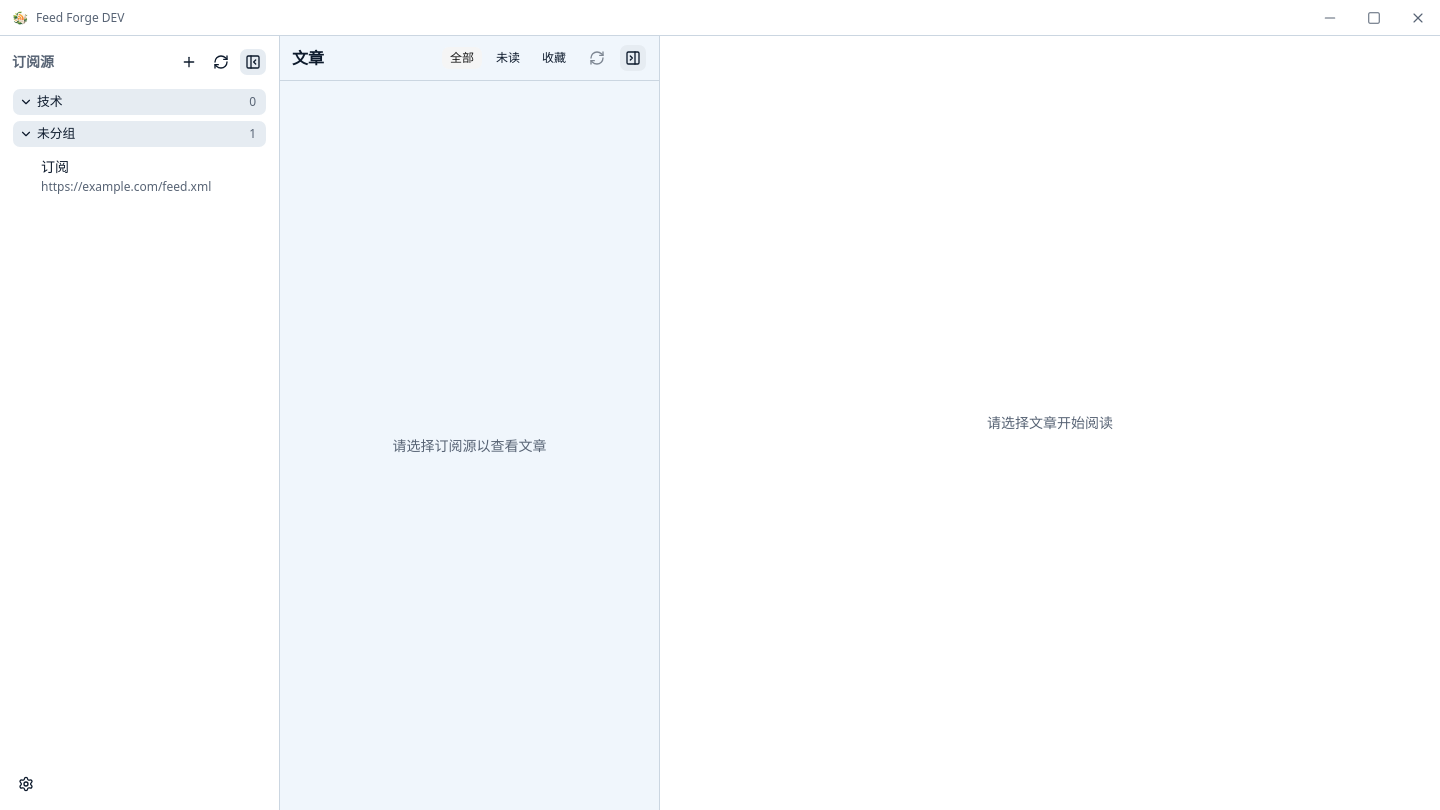
opens the add-feed dialog from the feed panel title actions
Click the button named "添加订阅源" at (189, 62), box [175,48,203,76]
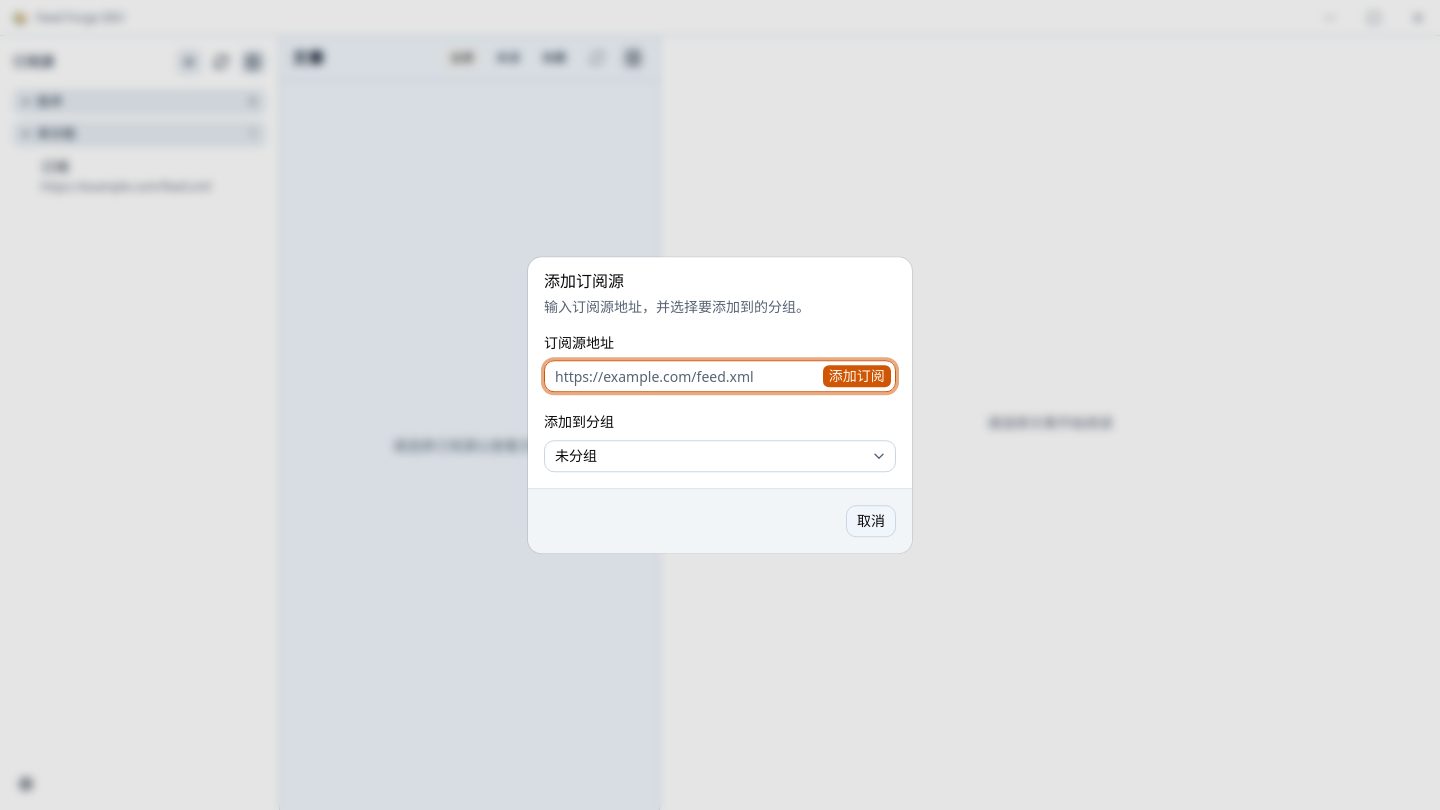
Check: the dialog "添加订阅源" is shown, box [528,257,912,553]
Check: the dropdown named "添加到分组" shows "未分组", box [544,440,896,472]
